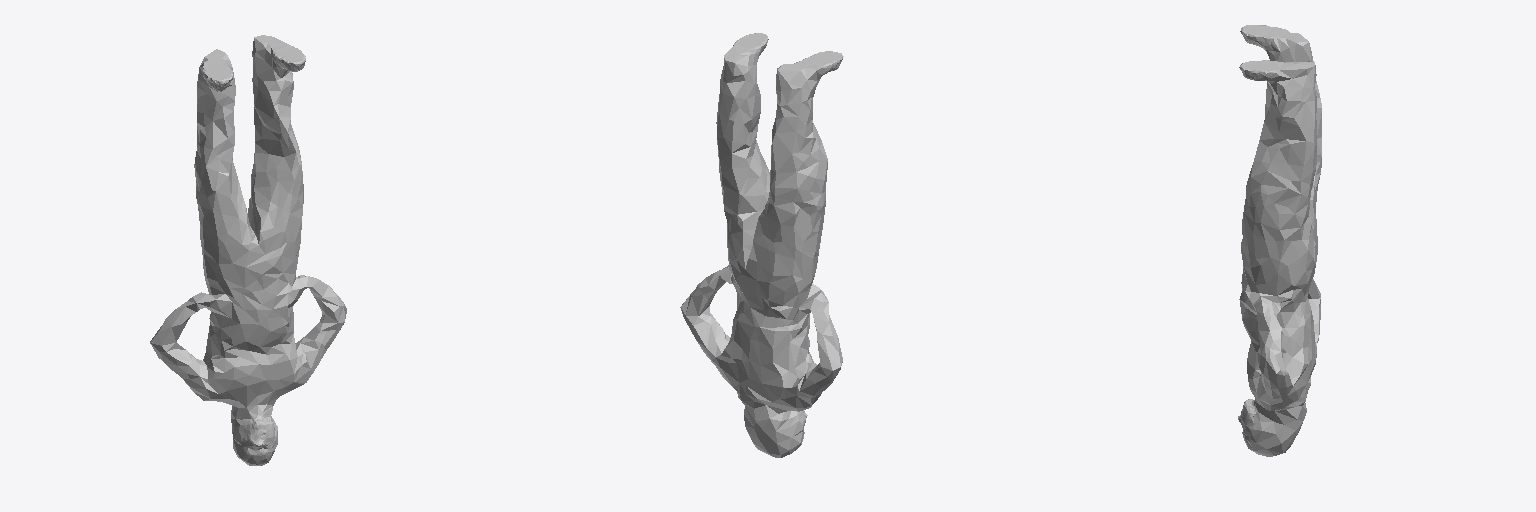
The picture shows the model from 3 angles: view 1: azimuth 30°, elevation 25°; view 2: azimuth 150°, elevation 25°; view 3: azimuth 270°, elevation 25°; orthographic projection.
Visible parts, largest first — view 1: pF10; view 2: pF10; view 3: pF10.
Boxes of the visible parts, box(x1,y1,x2,y2) form: pF10: box(150, 35, 346, 465); pF10: box(680, 33, 843, 457); pF10: box(1238, 25, 1321, 456).
Bounding box in the file's own units: 79 × 171 × 32.38.